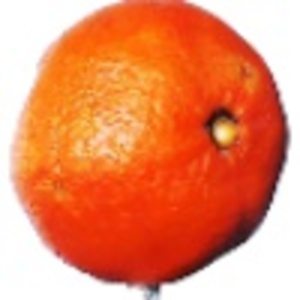tangerina: (8, 1, 292, 300)
